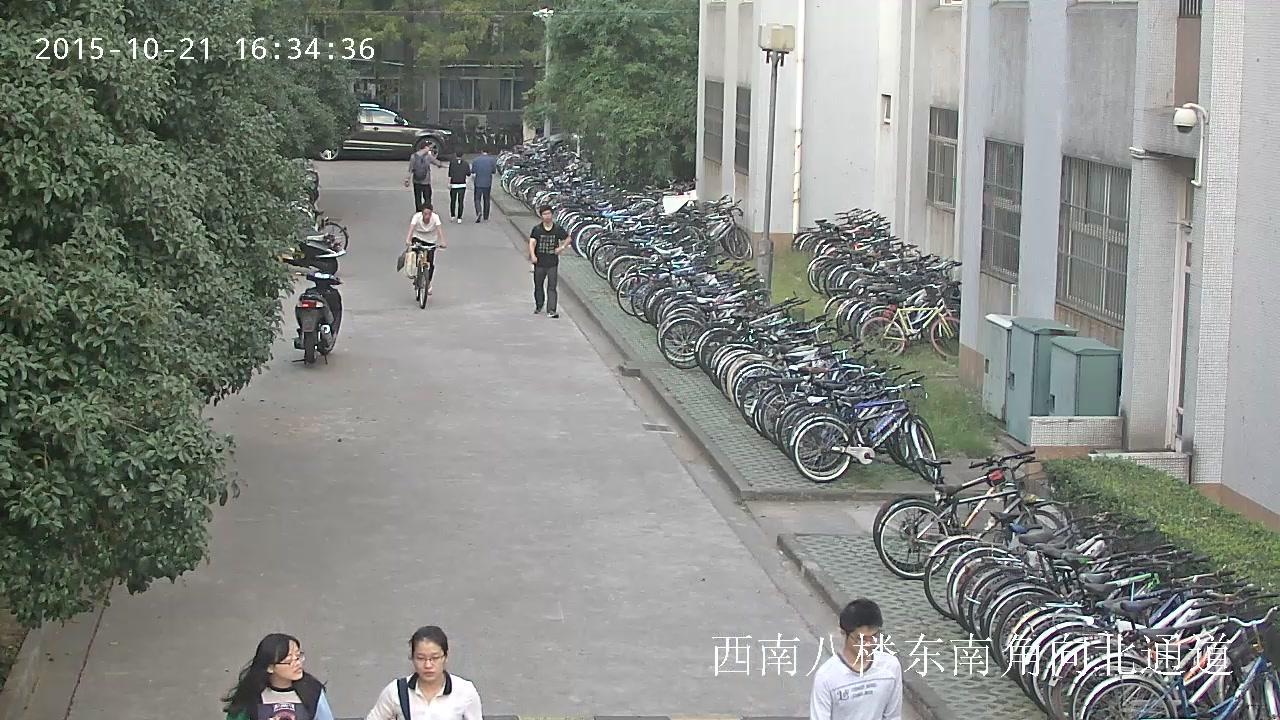face: (412, 640, 444, 682), (274, 640, 302, 680), (847, 625, 878, 657), (542, 210, 552, 222), (422, 209, 431, 221), (426, 147, 429, 150)
